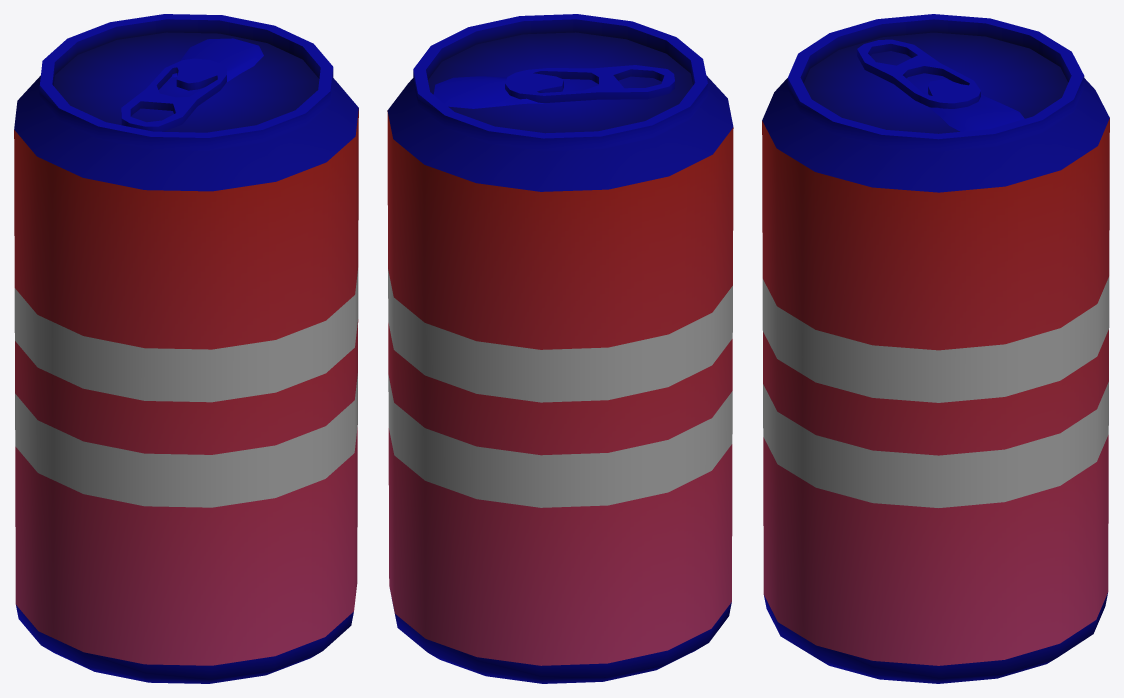
The model's file is consumables-drinks-canofsoda_v1.fbx.
3 renders of one model, left to right at view 1: azimuth 30°, elevation 25°; view 2: azimuth 150°, elevation 25°; view 3: azimuth 270°, elevation 25°, orthographic.
Parts seen in each view (by area): view 1: CanOfSoda_color, CanOfSoda_refl; view 2: CanOfSoda_color, CanOfSoda_refl; view 3: CanOfSoda_color, CanOfSoda_refl.
Boxes of the visible parts, left/top/right/bottom form: CanOfSoda_color: left=14, top=108, right=358, bottom=665; CanOfSoda_refl: left=14, top=14, right=358, bottom=683; CanOfSoda_color: left=387, top=111, right=733, bottom=665; CanOfSoda_refl: left=387, top=14, right=733, bottom=683; CanOfSoda_color: left=762, top=118, right=1109, bottom=665; CanOfSoda_refl: left=762, top=14, right=1109, bottom=683.
Bounding box in the file's own units: 0.0918 × 0.1579 × 0.0918.
